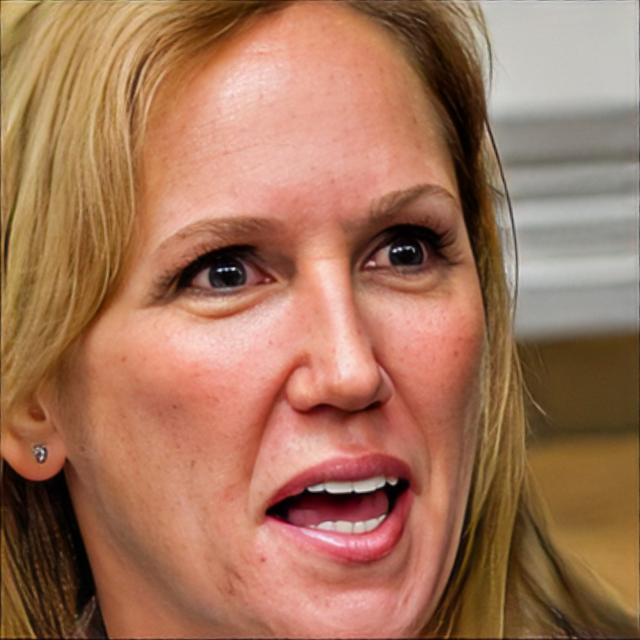disgust: (66, 0, 490, 640)
